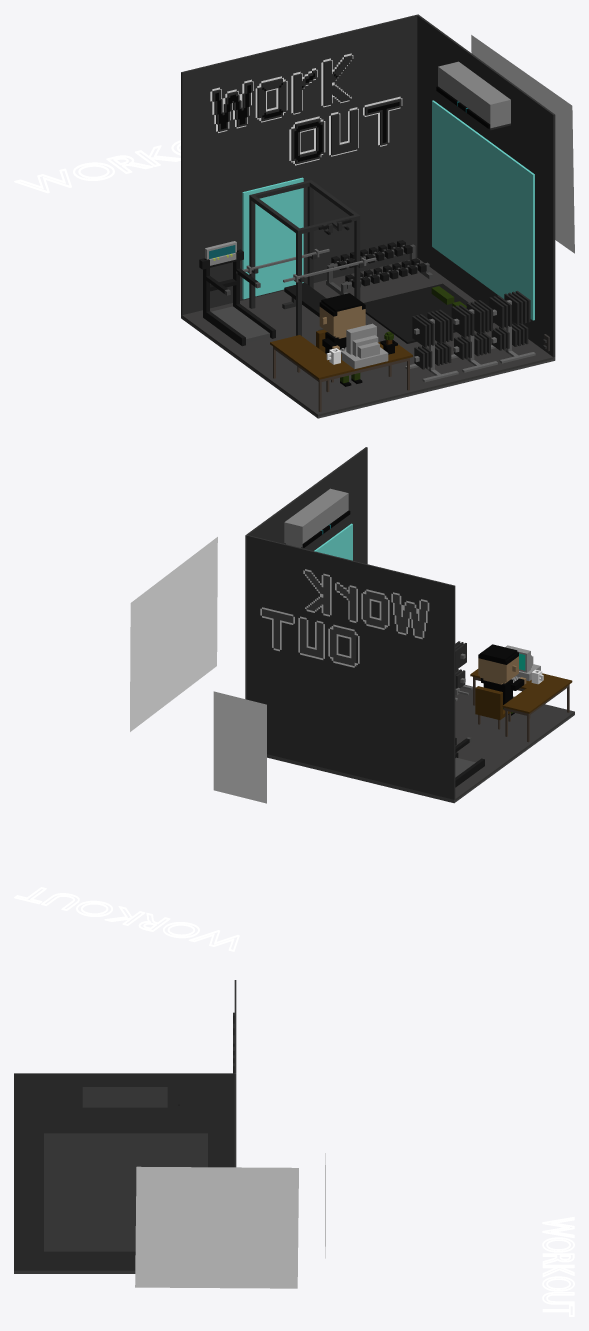
The model's file is nomu-room.glb.
3 renders of one model, top to bottom at view 1: azimuth 30°, elevation 25°; view 2: azimuth 150°, elevation 25°; view 3: azimuth 270°, elevation 25°, orthographic. The views are drawn at different scales.
Parts seen in each view (by area): view 1: nomu-room-0, 平面, テキスト; view 2: nomu-room-0, 平面, 平面.001, テキスト; view 3: nomu-room-0, 平面, テキスト.
Part boxes in pixels (x1,y1,x2,y2): nomu-room-0: [181, 14, 555, 418]; 平面: [471, 35, 574, 253]; テキスト: [14, 140, 180, 193]; nomu-room-0: [245, 447, 574, 803]; 平面: [130, 537, 217, 731]; 平面.001: [213, 691, 266, 803]; テキスト: [14, 887, 239, 951]; nomu-room-0: [14, 980, 236, 1273]; 平面: [135, 1166, 298, 1288]; テキスト: [542, 1217, 574, 1316].
Size of the model in its own units: 17.61 by 13.86 by 31.79.
Materials: 3 (1 with a texture image).
